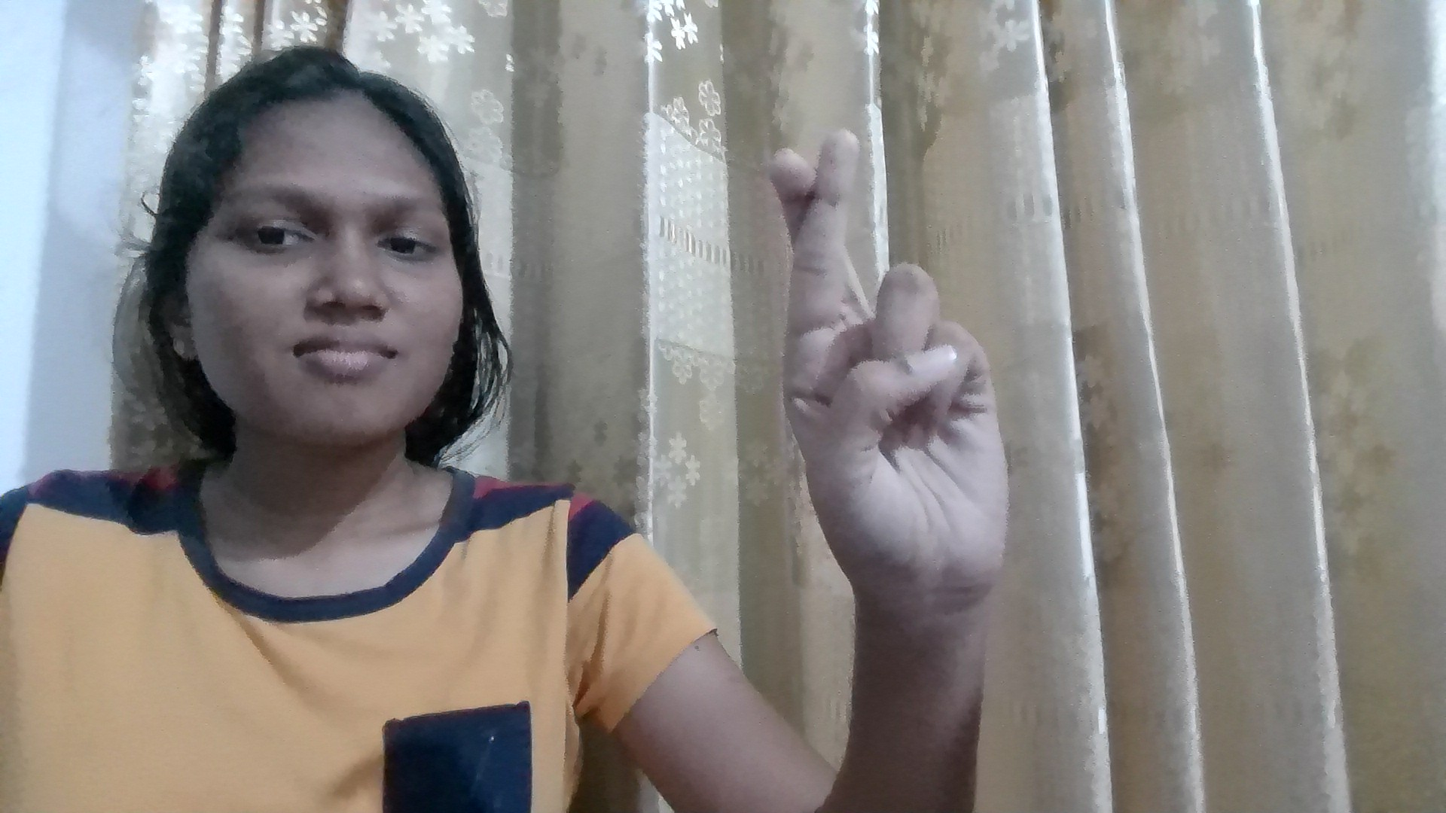Good_Luck: (755, 115, 1097, 700)
